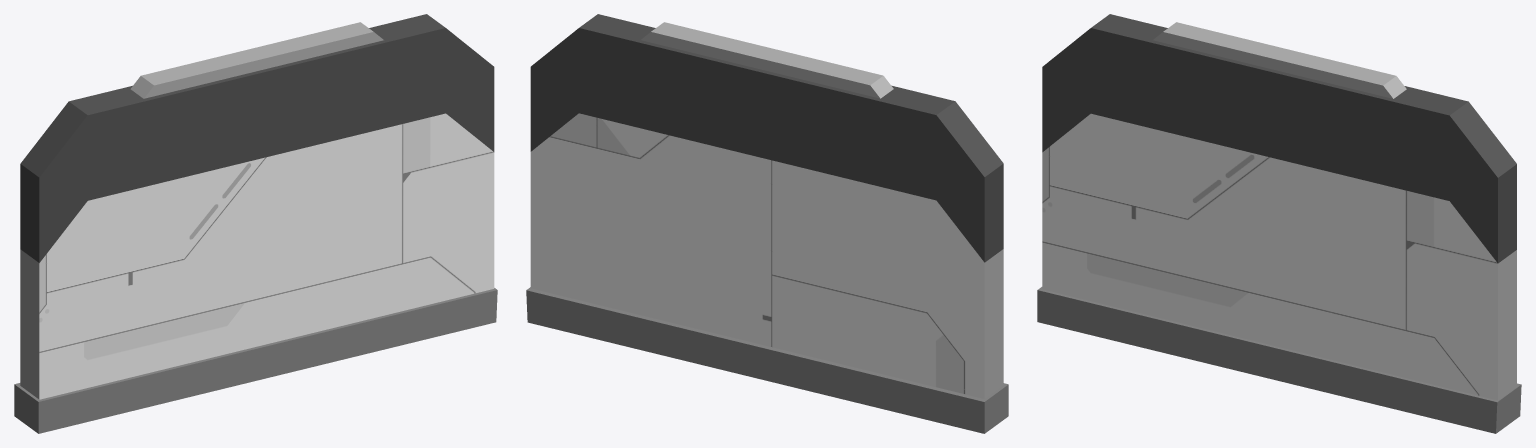
File: SM_Railing_2.fbx
3 renders of one model, left to right at view 1: azimuth 30°, elevation 25°; view 2: azimuth 150°, elevation 25°; view 3: azimuth 330°, elevation 25°, orthographic.
Visible parts, largest first — view 1: SM_Railing_2; view 2: SM_Railing_2; view 3: SM_Railing_2.
Boxes of the visible parts, left/top/right/bottom form: SM_Railing_2: left=14, top=14, right=497, bottom=433; SM_Railing_2: left=526, top=14, right=1008, bottom=433; SM_Railing_2: left=1037, top=14, right=1521, bottom=433.
Size of the model in its own units: 151 by 99.33 by 13.85.
